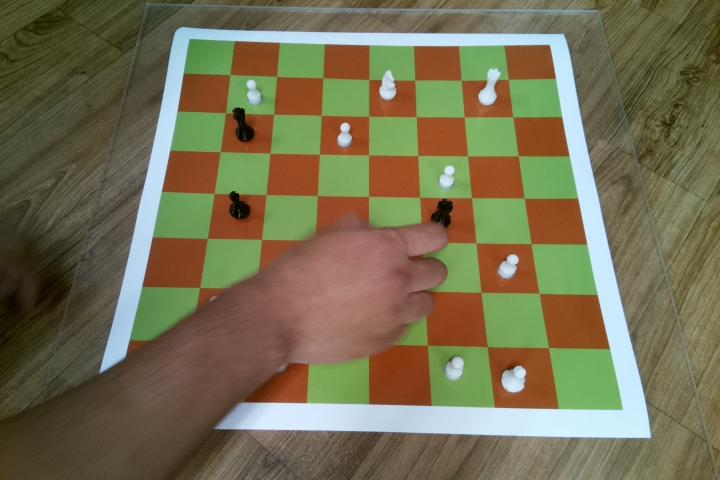chessboard-detect: (115, 38, 623, 410)
